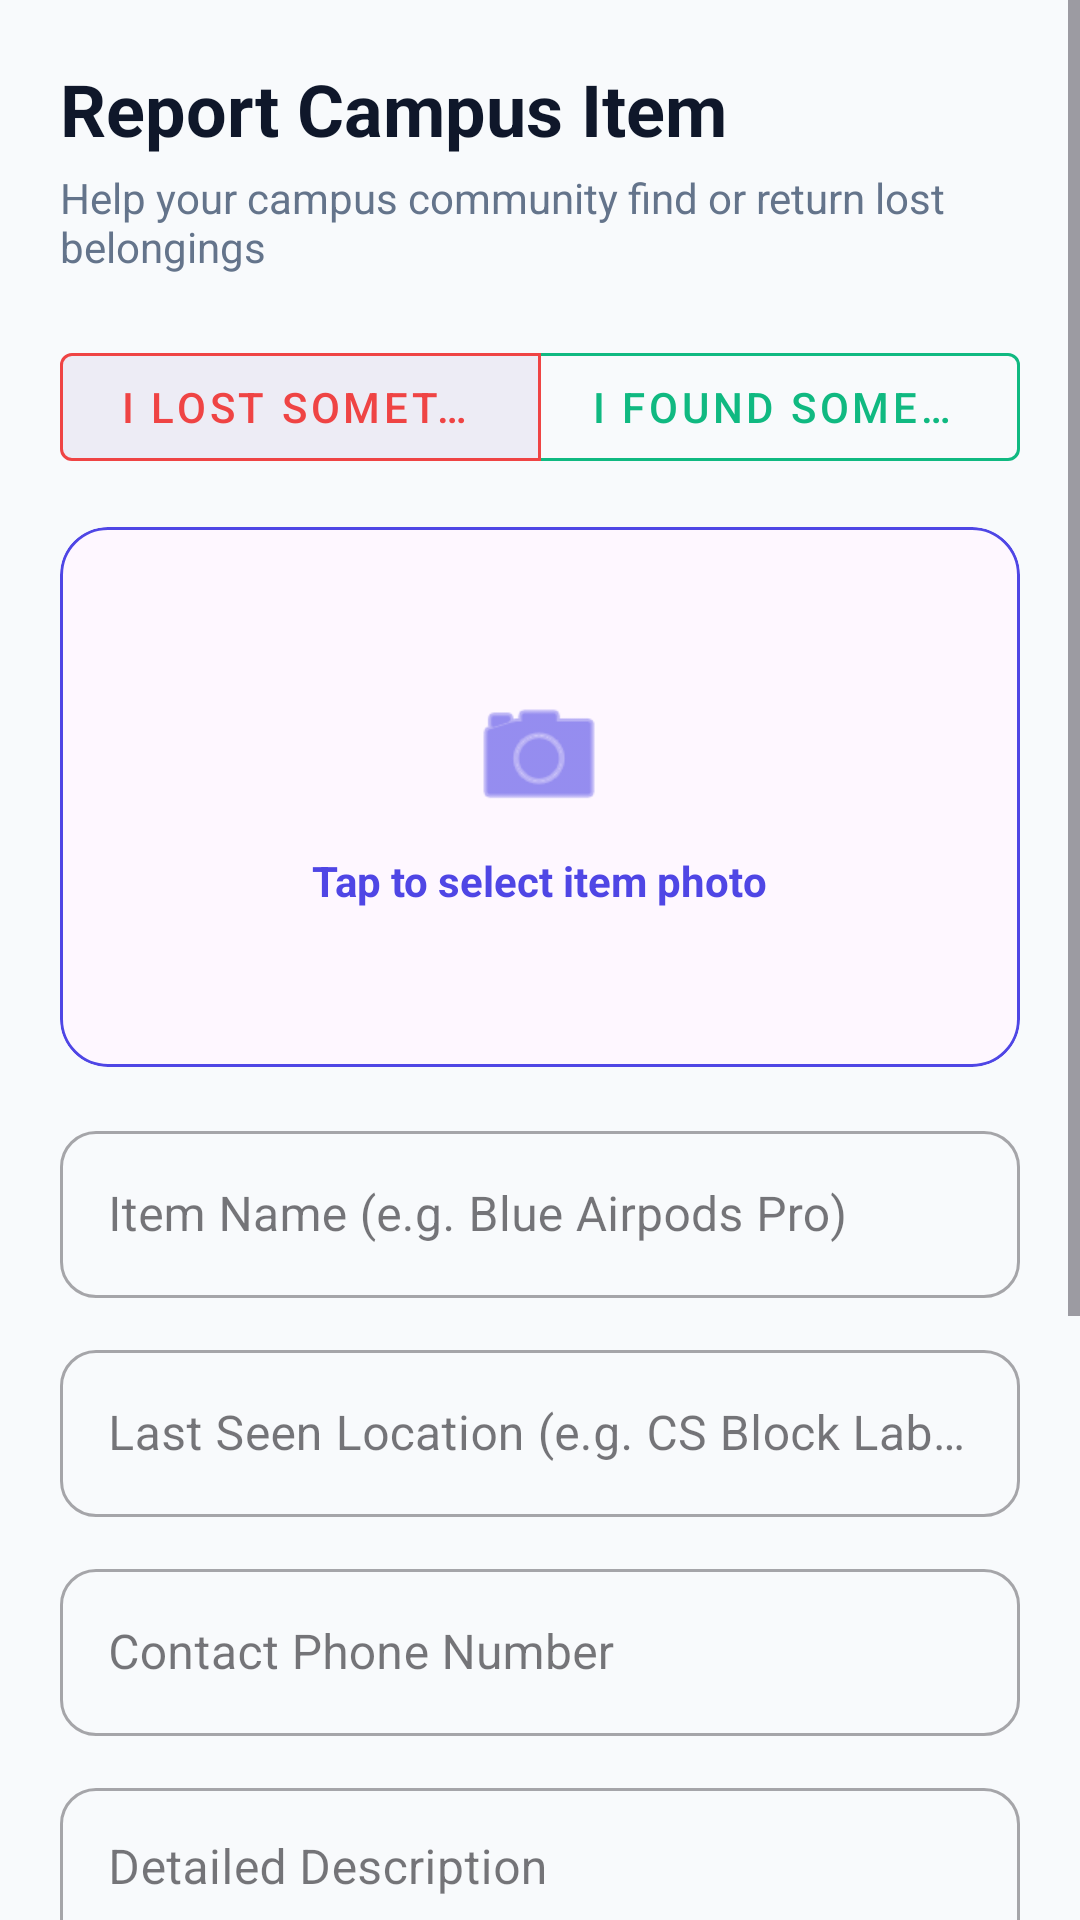

Point at icon controls on the screen. Image size 1080×1920, points as (x=x, y=y).
camera: (x=538, y=754)
